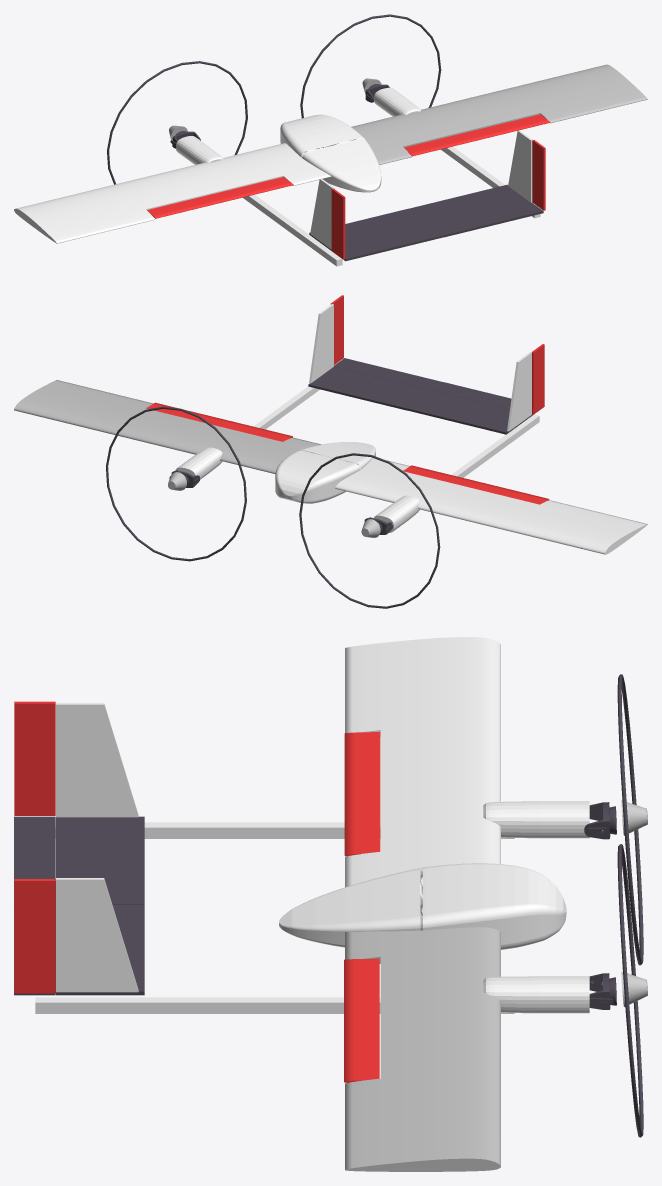
File: cuav_tvbs1.gltf
3 renders of one model, top to bottom at view 1: azimuth 30°, elevation 25°; view 2: azimuth 150°, elevation 25°; view 3: azimuth 270°, elevation 25°, orthographic. The views are drawn at different scales.
Parts seen in each view (by area): view 1: cuav_tvbs; view 2: cuav_tvbs; view 3: cuav_tvbs.
Boxes of the visible parts, left/top/right/bottom form: cuav_tvbs: left=14, top=14, right=647, bottom=266; cuav_tvbs: left=14, top=295, right=647, bottom=608; cuav_tvbs: left=14, top=637, right=647, bottom=1171.
Size of the model in its own units: 1.13 by 0.2699 by 0.5828.
